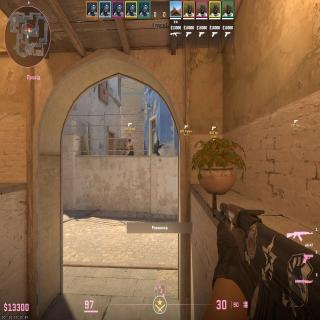CT-Body: (153, 140, 160, 156)
CT-Head: (156, 139, 160, 144)
T-Body: (128, 138, 134, 156)
T-Head: (128, 139, 131, 142)
